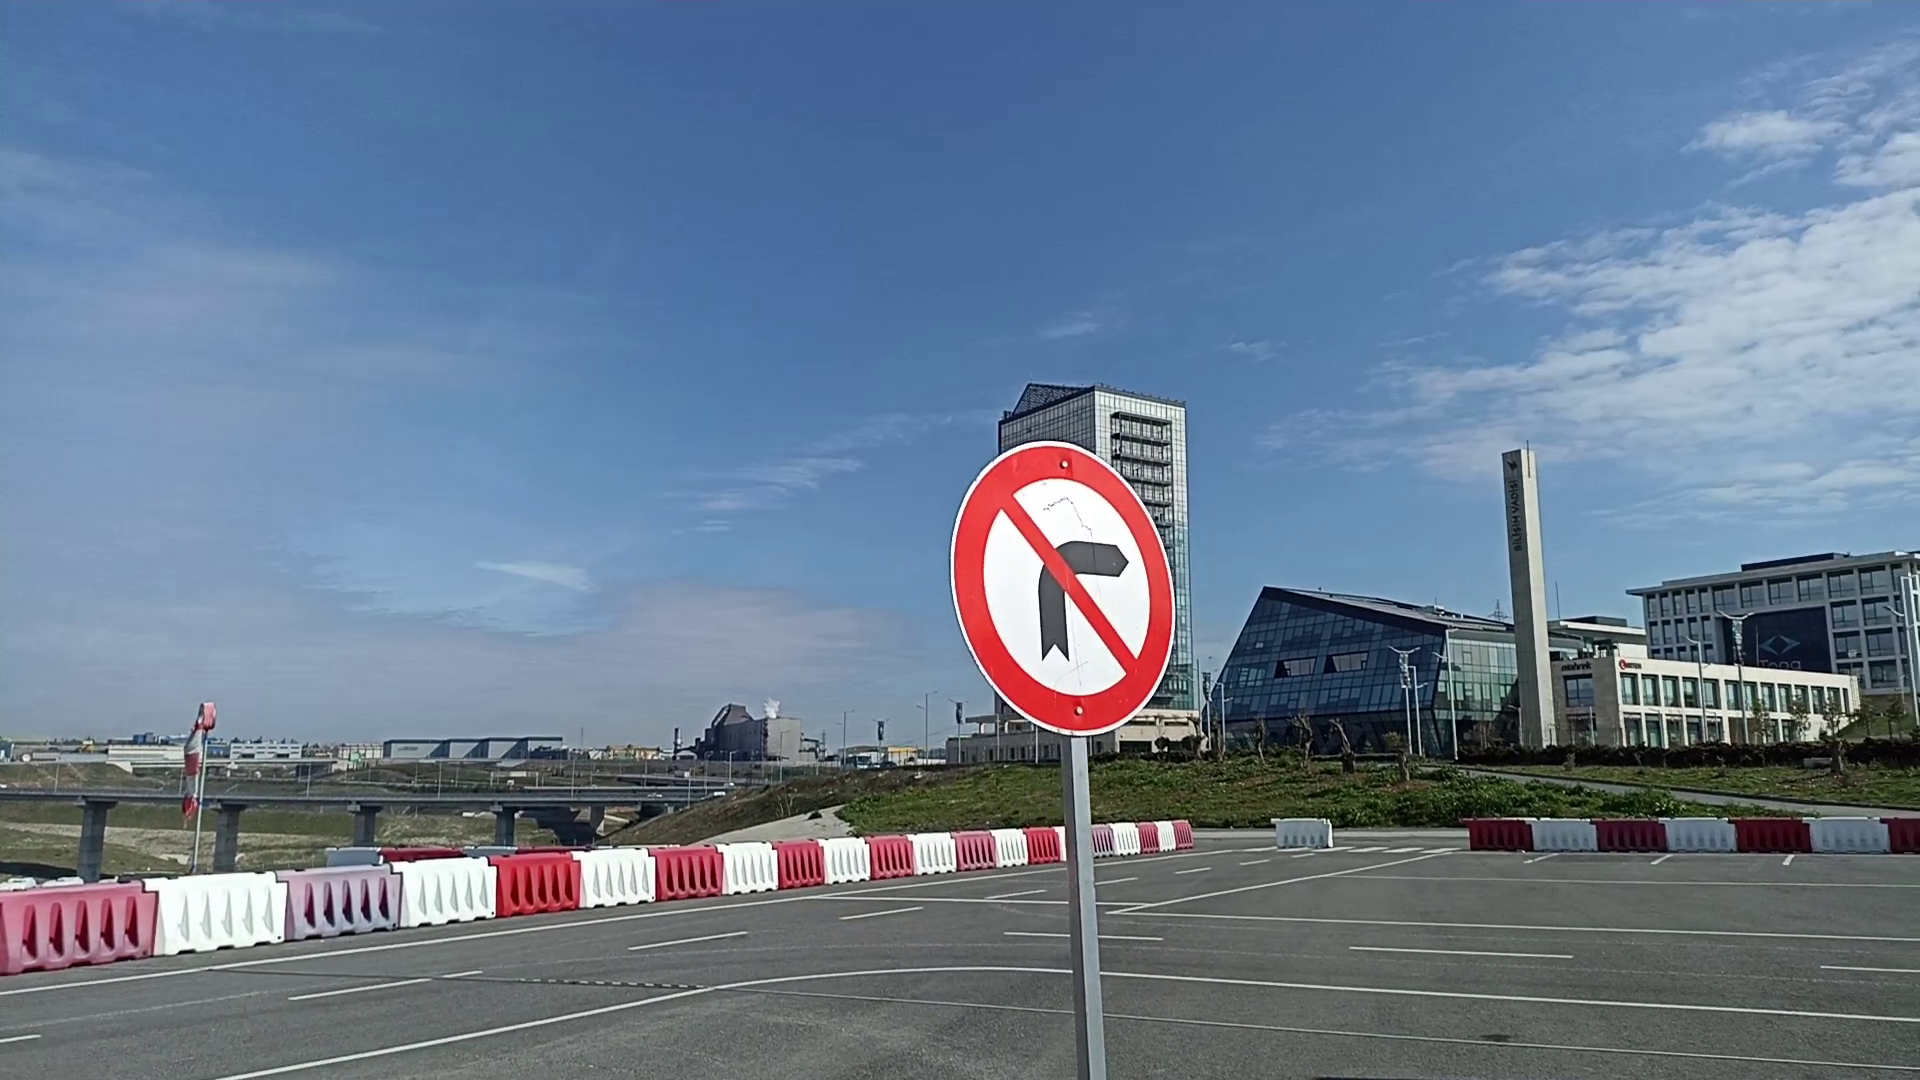noleftturn: (944, 439, 1180, 740)
